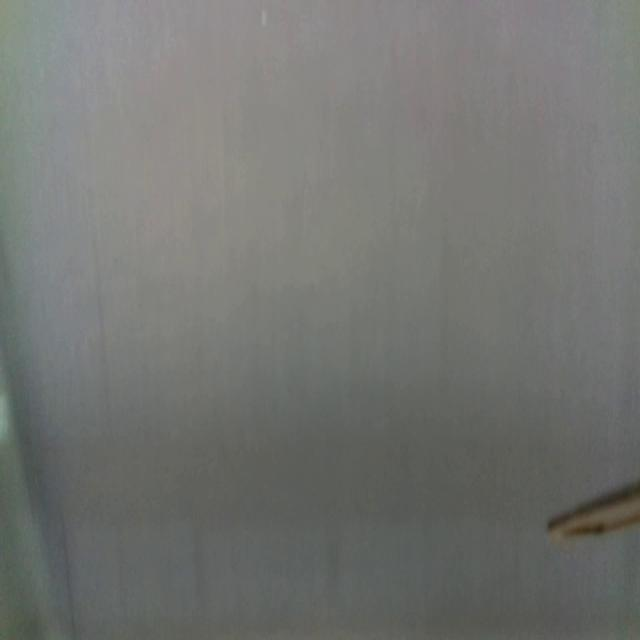crease: (61, 523, 77, 640)
